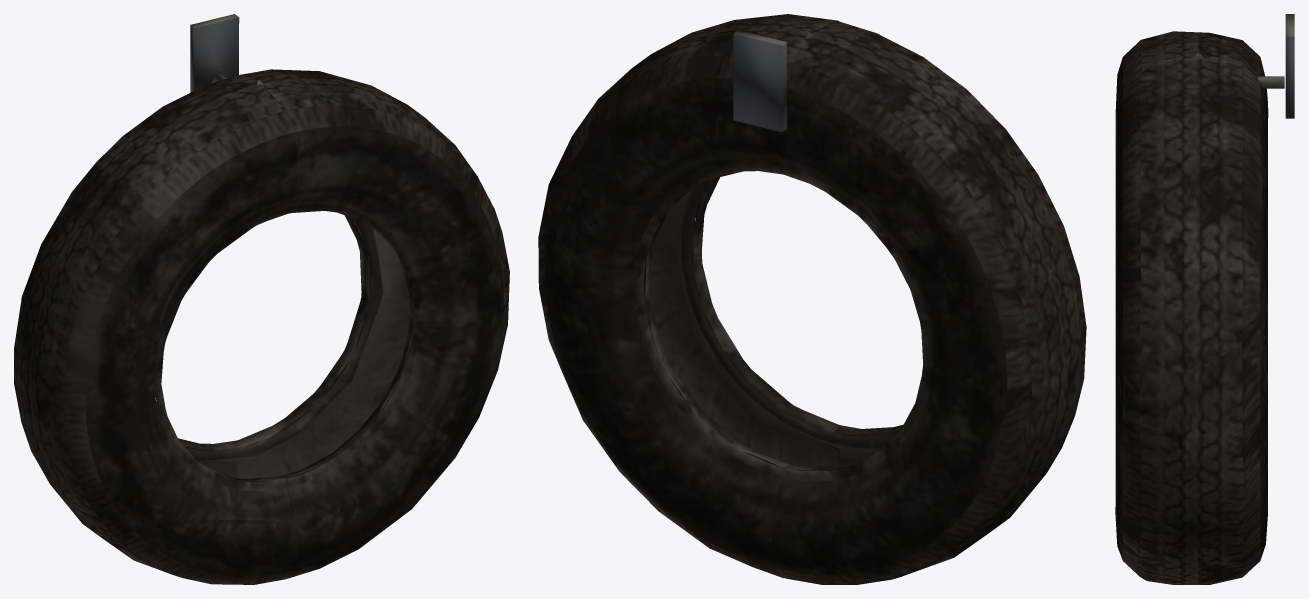
The model's file is tyre_hanging-low.glb.
3 renders of one model, left to right at view 1: azimuth 30°, elevation 25°; view 2: azimuth 150°, elevation 25°; view 3: azimuth 270°, elevation 25°, orthographic. The views are drawn at different scales.
Parts seen in each view (by area): view 1: tyre_hanging-low; view 2: tyre_hanging-low; view 3: tyre_hanging-low.
Boxes of the visible parts, x1,y1,x2,y2 form: tyre_hanging-low: [14, 14, 509, 584]; tyre_hanging-low: [538, 14, 1086, 584]; tyre_hanging-low: [1115, 14, 1294, 584].
Size of the model in its own units: 0.6002 by 0.6408 by 0.1946.
Materials: 1 (1 with a texture image).
